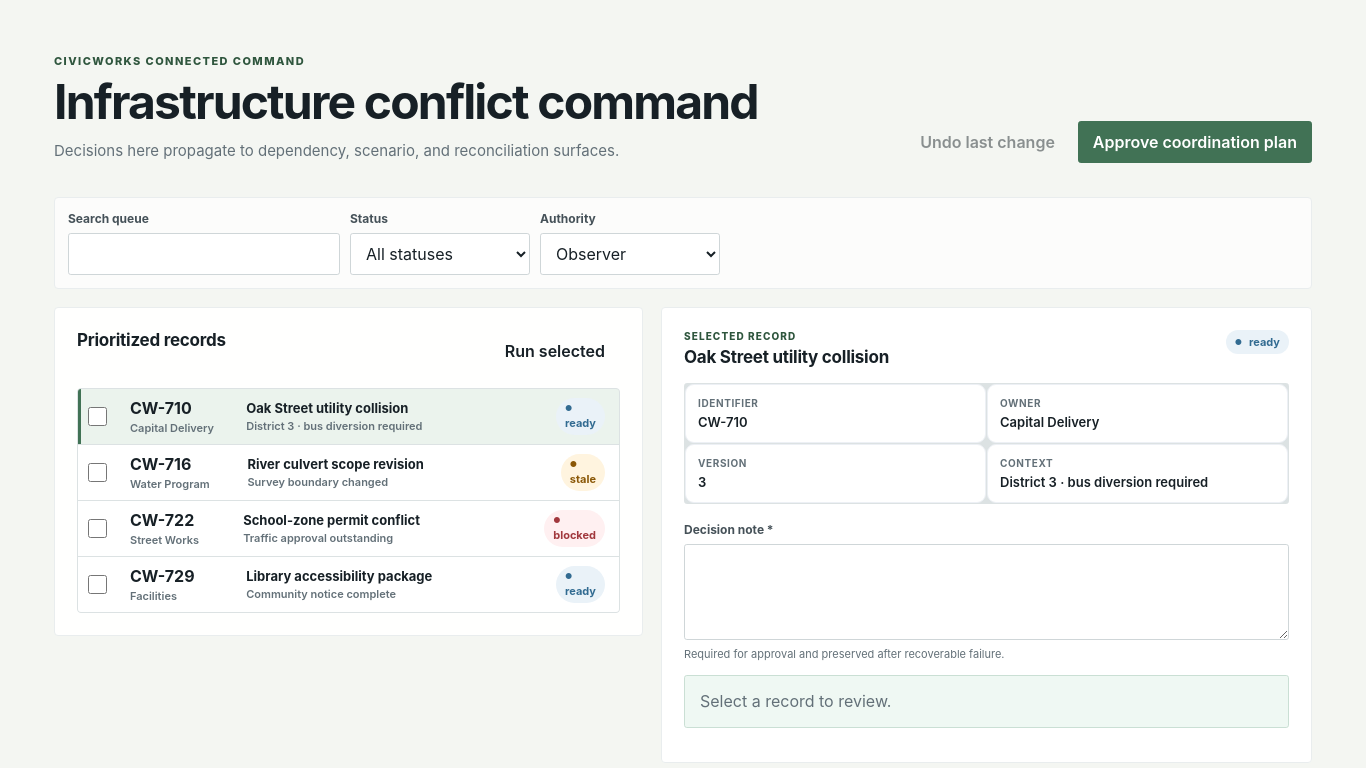
Test case: Infrastructure conflict command › filters the queue and offers recovery from an empty result
In the field labelled "Search queue": (204, 254) left=68, top=233, right=340, bottom=275, type "not-present"
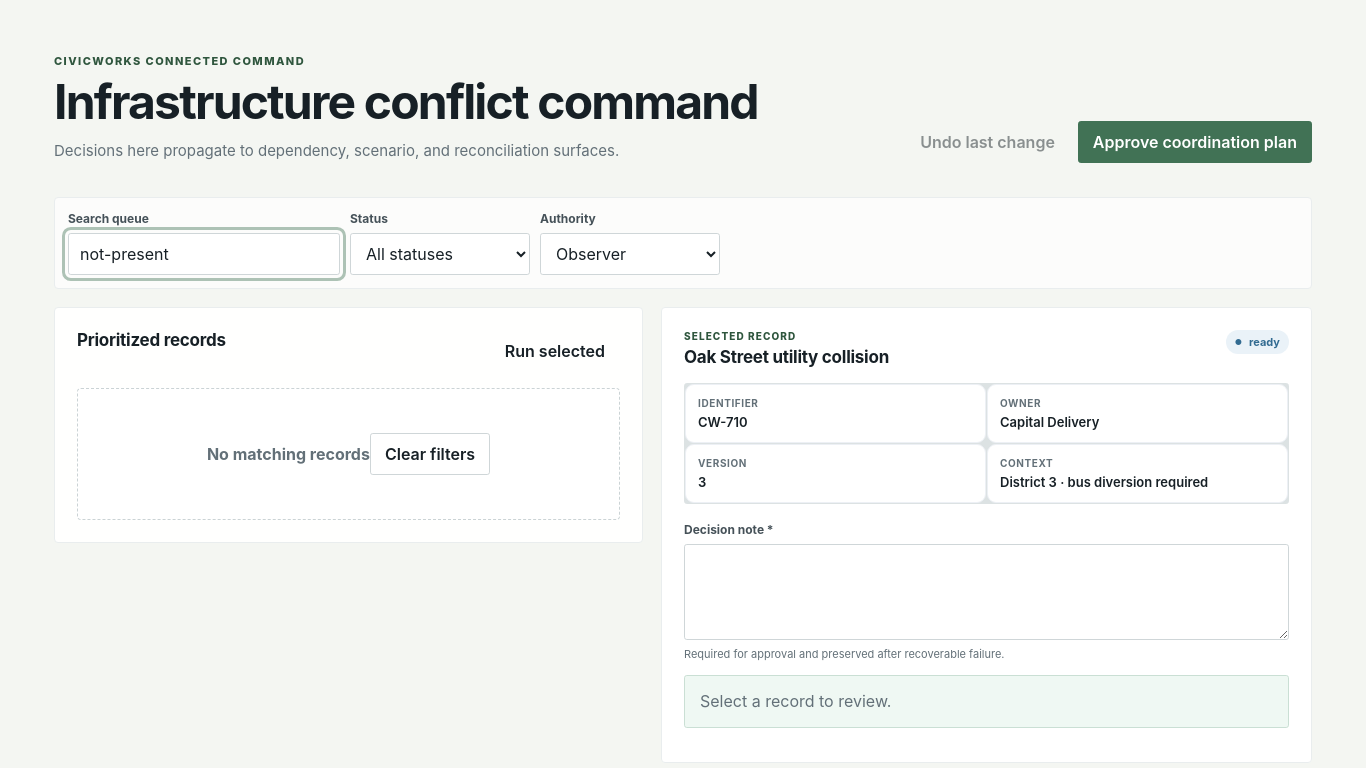
Now the text "No matching records" is shown, box left=207, top=444, right=370, bottom=464
Click the button "Clear filters": (430, 454) left=370, top=433, right=490, bottom=475
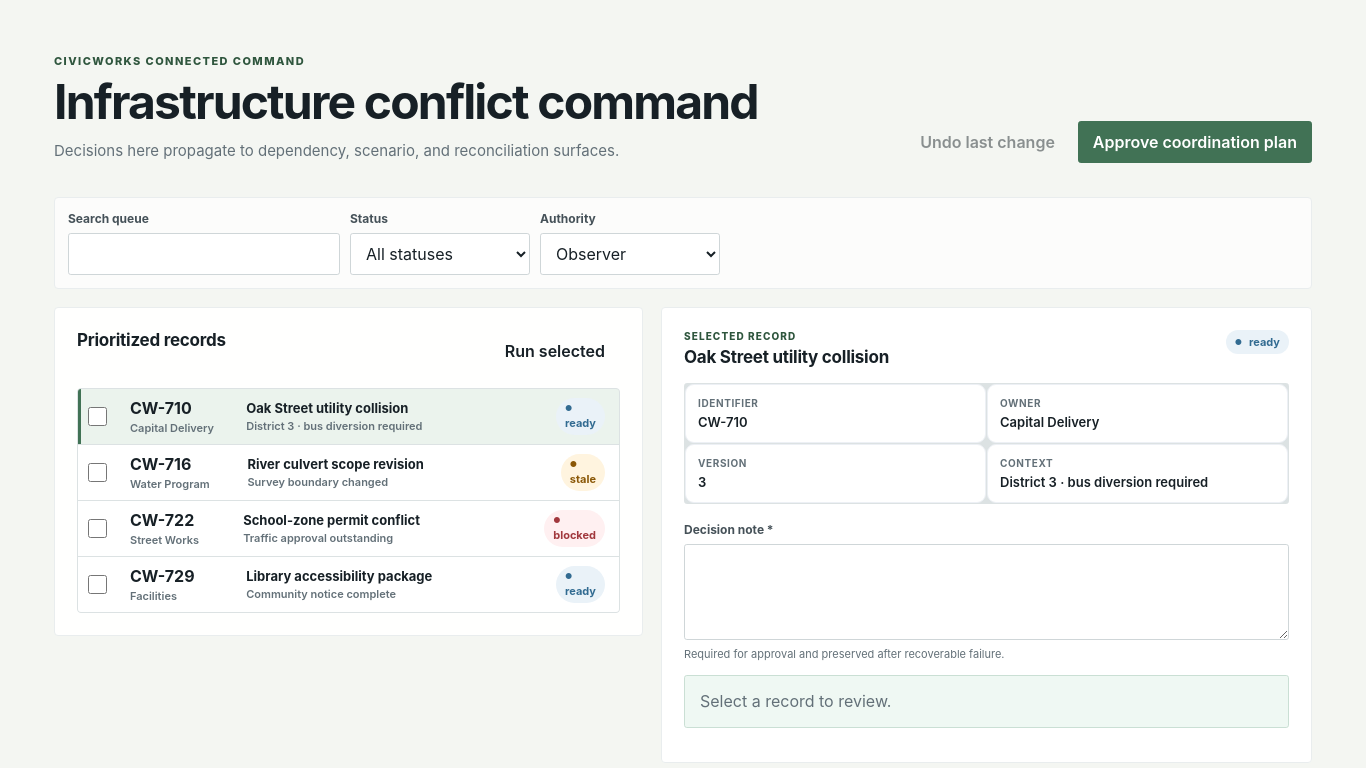
Now the text "Oak Street utility collision" is shown 2 times, box left=246, top=400, right=408, bottom=416; left=684, top=347, right=889, bottom=367
